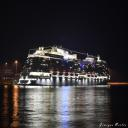cruises: (17, 44, 112, 89)
